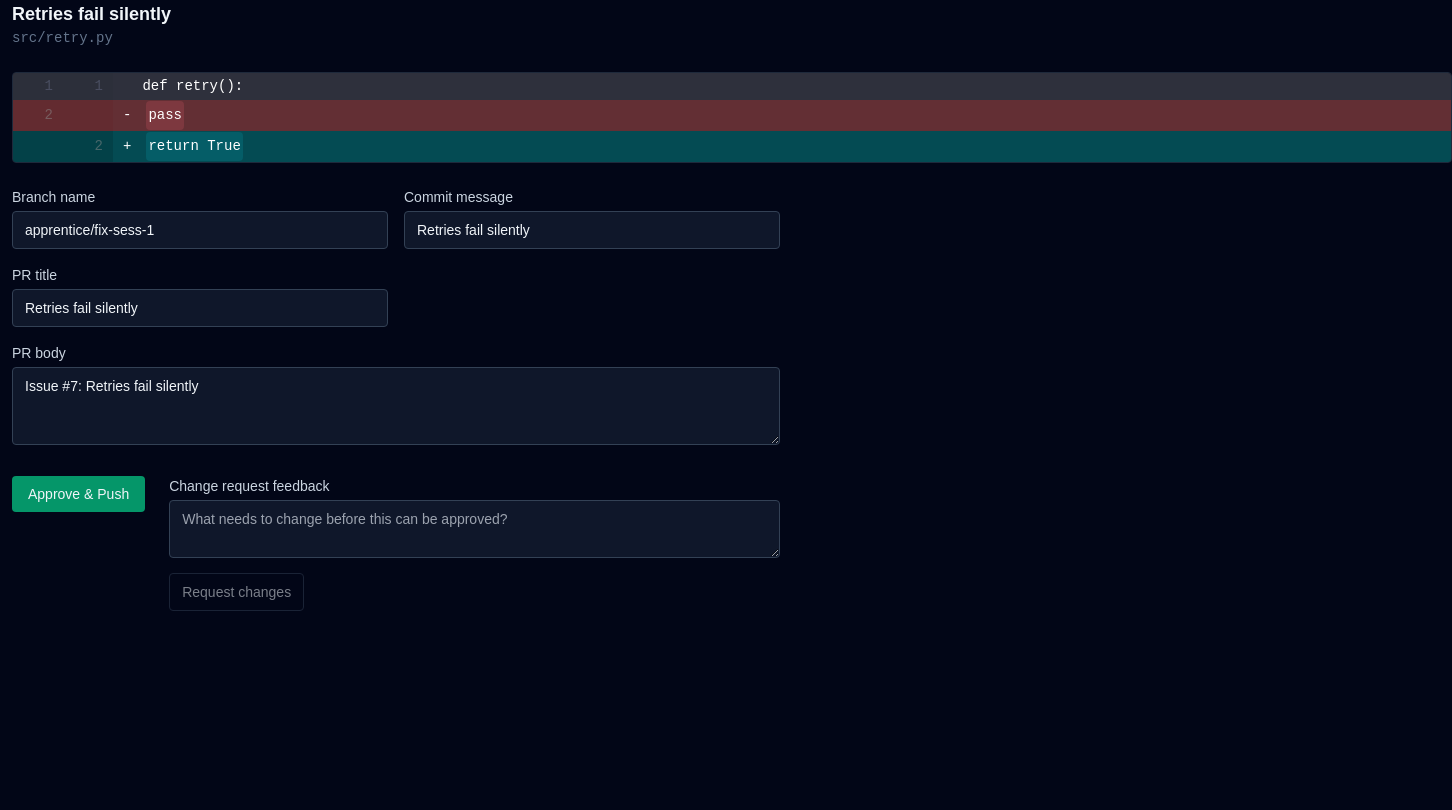
Test case: PrReviewView › lets the reviewer save change-request feedback instead of approving blind
Step 1. Type "Please add a test for the timeout case." into the text box labelled "Change request feedback" → (475, 529), box [169,500,780,558]
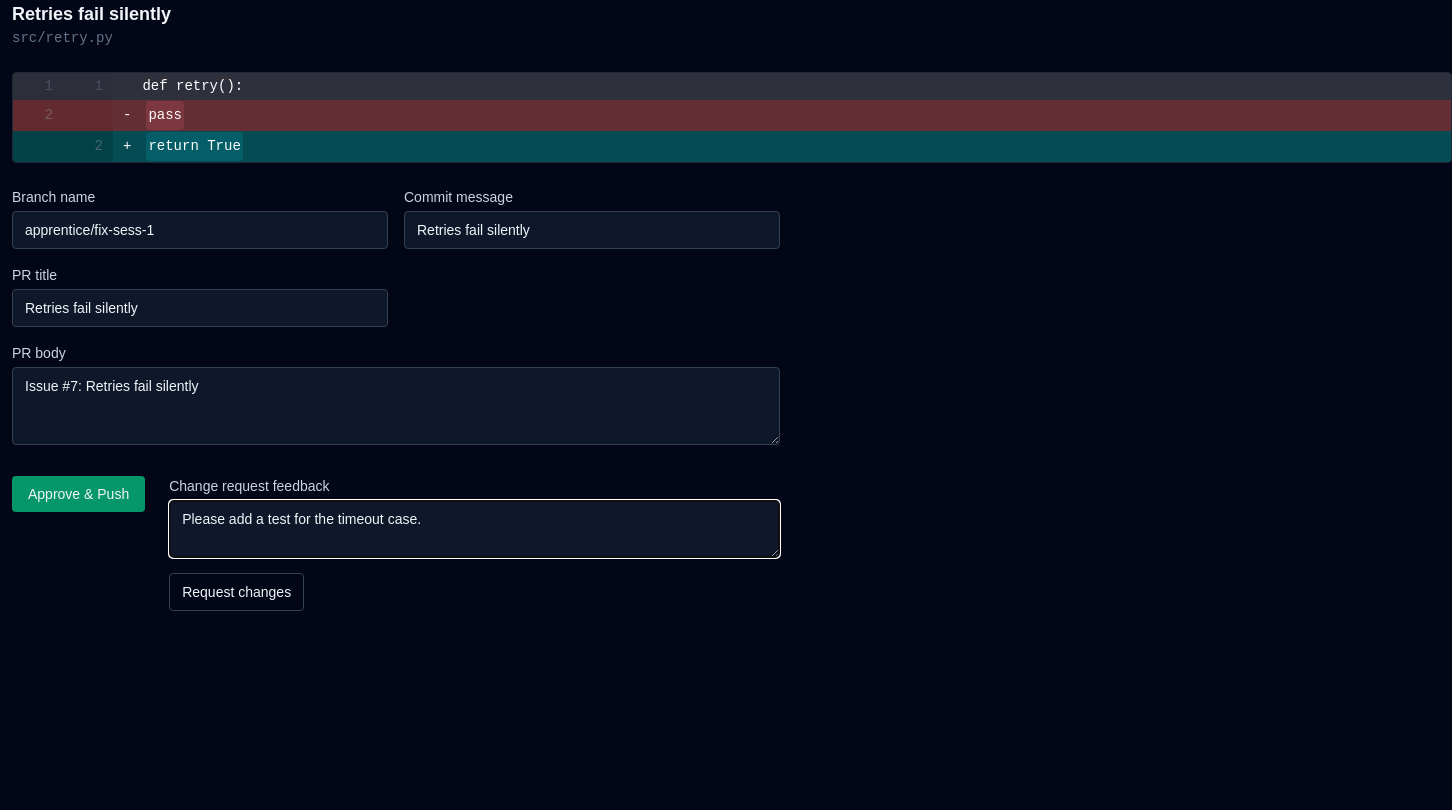
Step 2. Click the button "Request changes" → click(237, 592), box [169,573,304,611]
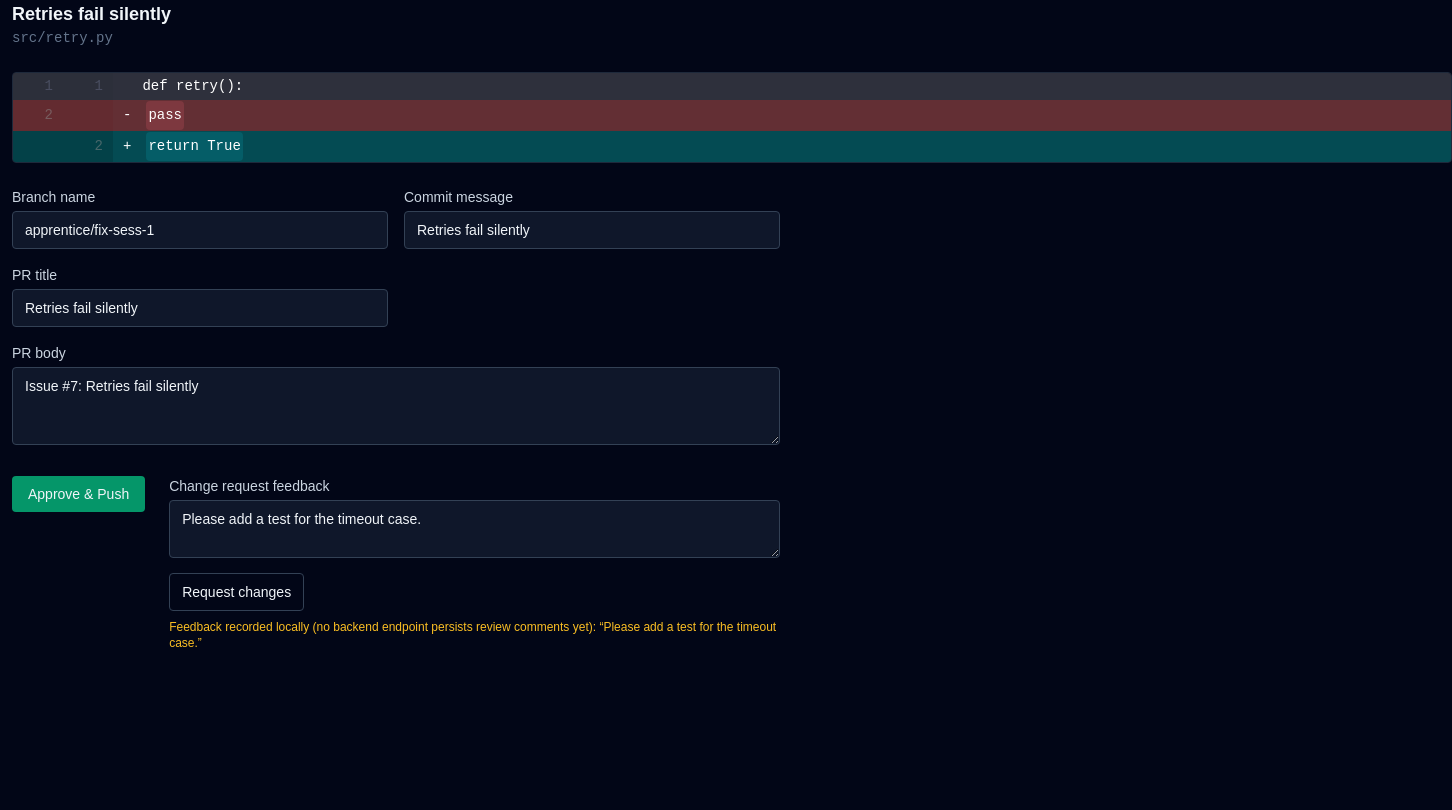
Result: the text with test id "saved-feedback" shows "please add a test for the timeout case" at [169,620,776,650]
